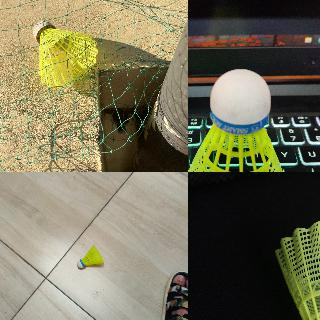shuttlecock: (188, 69, 287, 171), (32, 21, 98, 88), (275, 221, 319, 319), (77, 244, 103, 268)
